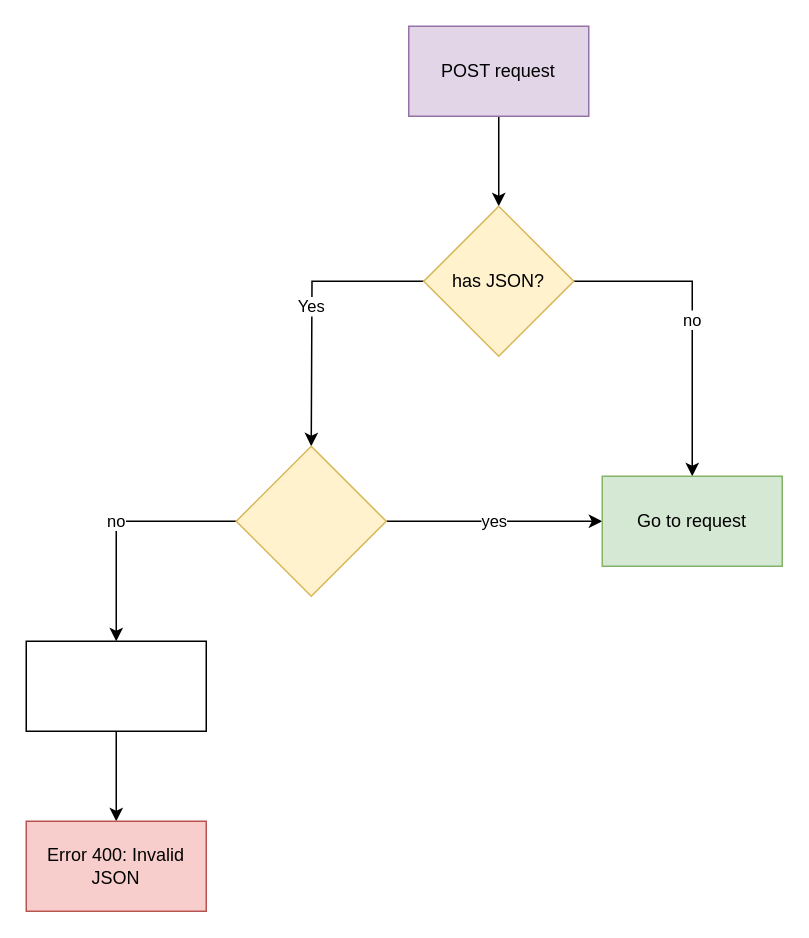
This 809x938 diagram has some shape labels left out. The box of each missing label's shape, as (x1, y1, x2, y2) in pixels:
custom middleware throws error: (25, 640, 206, 731)
is a valid JSON?: (235, 445, 386, 596)
